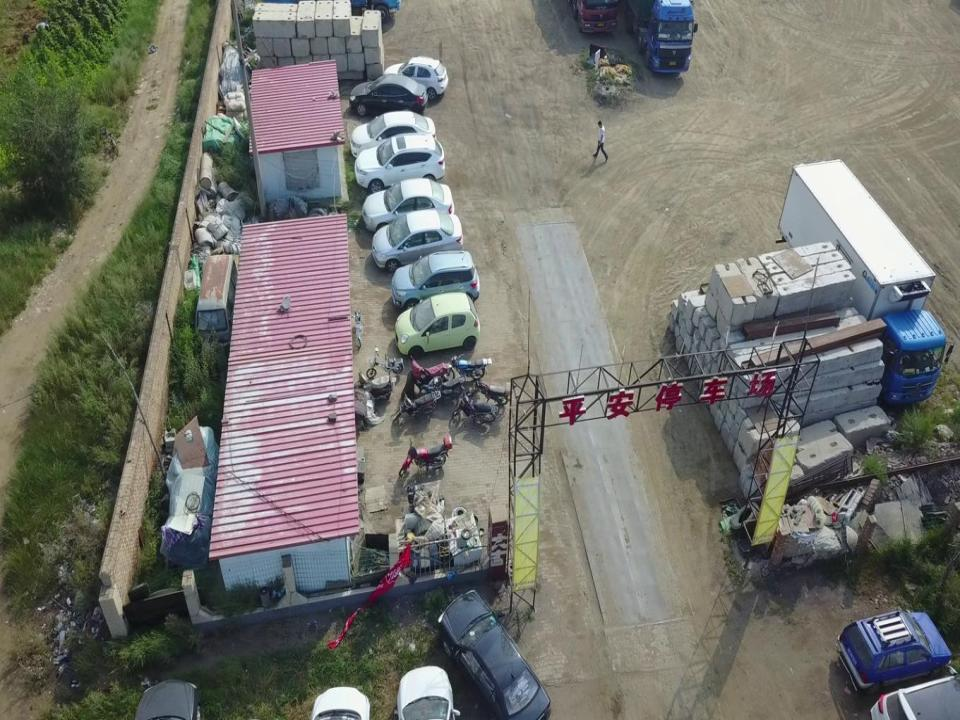car: (434, 589, 550, 720), (837, 614, 952, 694), (354, 132, 446, 187), (396, 292, 480, 352), (371, 211, 463, 264), (363, 178, 454, 229), (392, 251, 478, 304), (871, 675, 958, 720), (349, 111, 436, 151), (395, 665, 458, 720), (350, 73, 426, 113), (384, 56, 448, 94)
truck: (624, 0, 694, 73)
van: (782, 157, 945, 404), (196, 251, 240, 353)
